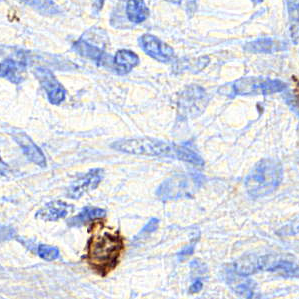Lymphocyte: (84, 217, 125, 279)
